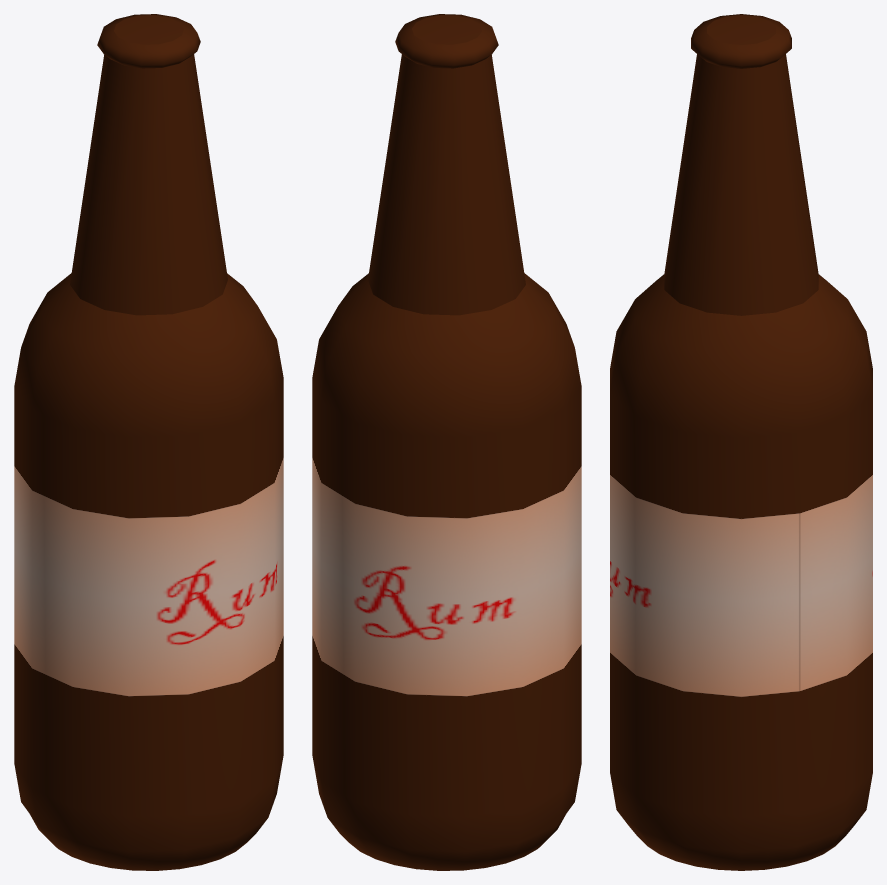
The model's file is Bottle.fbx.
3 renders of one model, left to right at view 1: azimuth 30°, elevation 25°; view 2: azimuth 150°, elevation 25°; view 3: azimuth 270°, elevation 25°, orthographic.
Visible parts, largest first — view 1: Rum_Bottle; view 2: Rum_Bottle; view 3: Rum_Bottle.
Part boxes in pixels (<box>): Rum_Bottle: <box>14,14,283,870</box>; Rum_Bottle: <box>312,14,581,870</box>; Rum_Bottle: <box>610,14,872,870</box>.
Size of the model in its own units: 7.53 by 24.63 by 7.35.
Materials: 1 (1 with a texture image).
